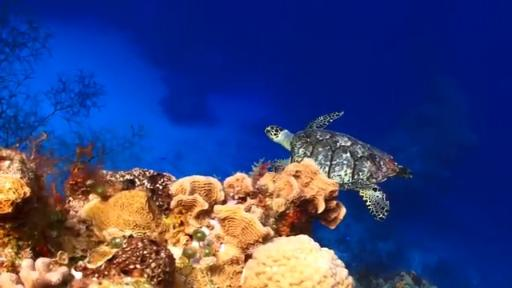Fish: (265, 112, 411, 219)
